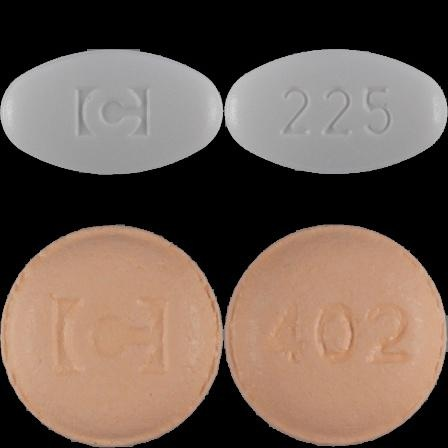63459-225: (0, 0, 224, 224)
